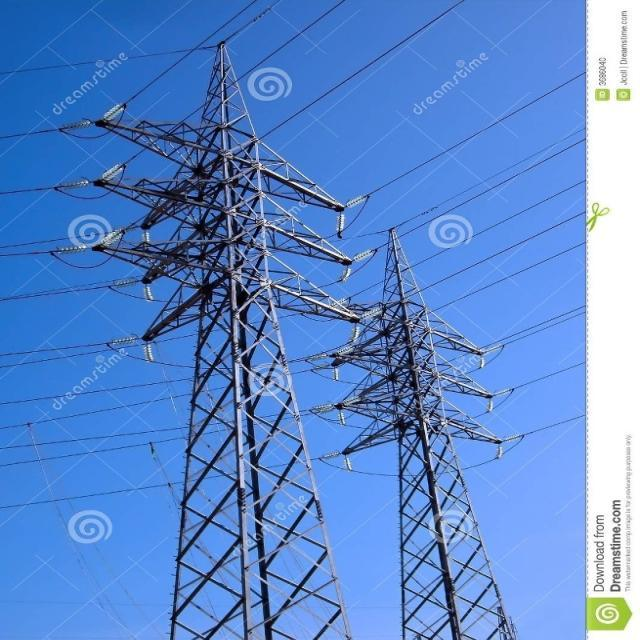non-critical vegetation: (82, 40, 370, 635), (324, 226, 524, 634)
